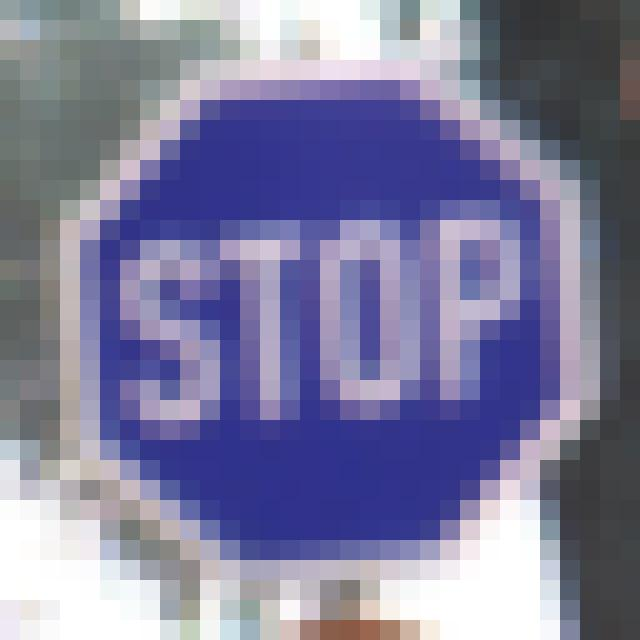STOP: (85, 85, 560, 544)
